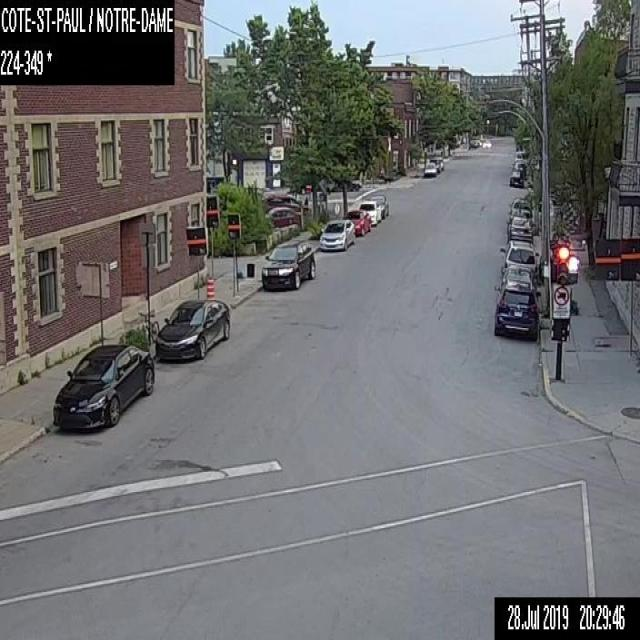construction: (204, 275, 214, 297)
vehicle: (52, 342, 154, 430), (154, 298, 230, 364), (494, 276, 540, 341), (261, 241, 315, 289), (498, 239, 539, 272), (318, 219, 354, 251), (501, 264, 534, 288), (341, 209, 370, 235), (506, 216, 534, 242), (268, 206, 300, 225), (263, 192, 301, 208), (357, 200, 380, 225), (508, 196, 533, 217), (370, 194, 388, 218), (509, 171, 523, 186), (512, 161, 525, 176), (423, 162, 436, 177), (429, 158, 440, 172), (514, 150, 526, 162), (469, 136, 481, 145), (482, 139, 491, 147), (438, 157, 443, 169)
